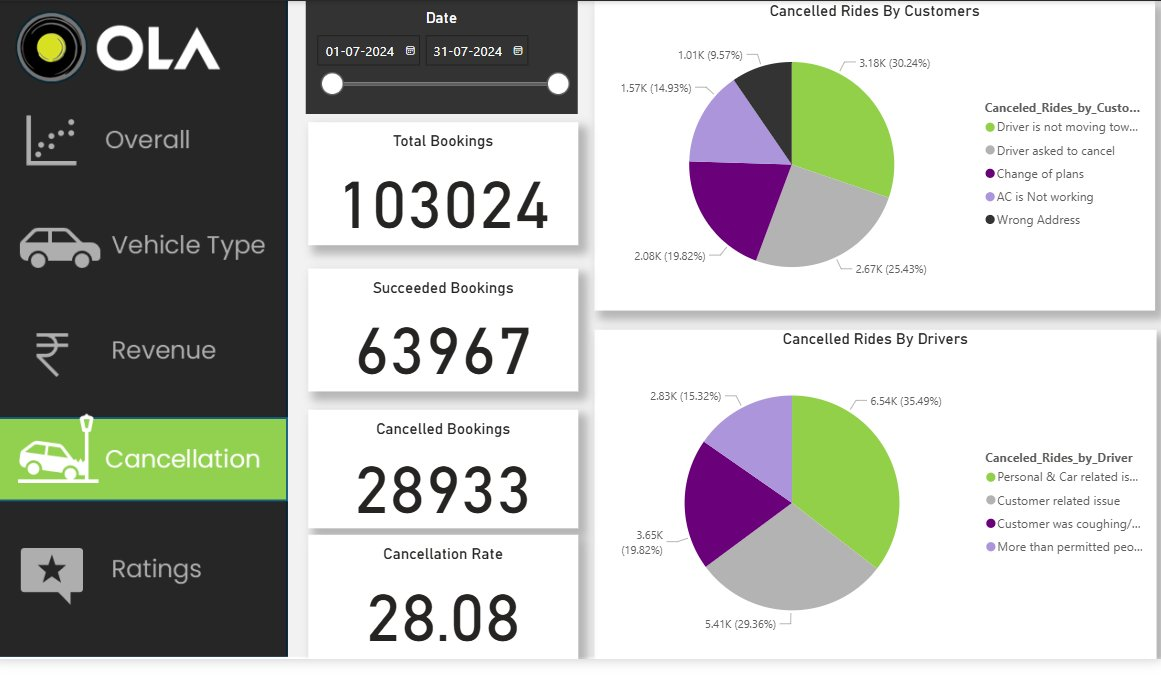

This screenshot's page, from the dashboard's own definition file:
{"tool":"powerbi","page":{"name":"Cancellation","canvas":[1280,720],"ordinal":3},"visuals":[{"type":"actionButton","box":[0,576.7,323.9,92],"z":0},{"type":"actionButton","box":[0,106.7,323.9,92],"z":1000},{"type":"actionButton","box":[0,218.4,323.9,92],"z":2000},{"type":"actionButton","box":[0,338.7,323.9,92],"z":3000},{"type":"pieChart","title":"Cancelled Rides By Customers","fields":{"Category":["Bookings.Canceled_Rides_by_Customer"],"Y":["CountNonNull(Bookings.Canceled_Rides_by_Customer)"]},"box":[658,0,612.6,338.7],"z":4000},{"type":"pieChart","title":"Cancelled Rides By Drivers","fields":{"Category":["Bookings.Canceled_Rides_by_Driver"],"Y":["CountNonNull(Bookings.Canceled_Rides_by_Driver)"]},"box":[658,359.8,614.2,359.8],"z":5000},{"type":"slicer","title":"Date","fields":{"Values":["Bookings.Date"]},"box":[343.6,0,296.6,123.2],"z":6000},{"type":"card","title":"Total Bookings","fields":{"Values":["Count(Bookings.Booking_ID)"]},"box":[345.2,132.9,295,134.5],"z":7000},{"type":"card","title":"Succeeded Bookings","fields":{"Values":["Count(Bookings.Booking_ID)"]},"box":[345.2,291.7,295,134.5],"z":8000},{"type":"card","title":"Cancelled Bookings","fields":{"Values":["Count(Bookings.Booking_ID)"]},"box":[345.2,447.3,295,129.7],"z":9000},{"type":"card","title":"Cancellation Rate","fields":{"Values":["Bookings.CanceledPercentage"]},"box":[345.2,583.4,295,136.1],"z":10000}]}

Visuals, with their boxes on the page's 1280x720 design canvas (x1, y1, x2, y2). These are canvas units, not pixel positions in the 1161x700 screenshot, which may show the page scaled, cropped or inside an application window:
actionButton: bbox(0, 577, 324, 669)
actionButton: bbox(0, 107, 324, 199)
actionButton: bbox(0, 218, 324, 310)
actionButton: bbox(0, 339, 324, 431)
"Cancelled Rides By Customers" pieChart: bbox(658, 0, 1271, 339)
"Cancelled Rides By Drivers" pieChart: bbox(658, 360, 1272, 720)
"Date" slicer: bbox(344, 0, 640, 123)
"Total Bookings" card: bbox(345, 133, 640, 267)
"Succeeded Bookings" card: bbox(345, 292, 640, 426)
"Cancelled Bookings" card: bbox(345, 447, 640, 577)
"Cancellation Rate" card: bbox(345, 583, 640, 720)
